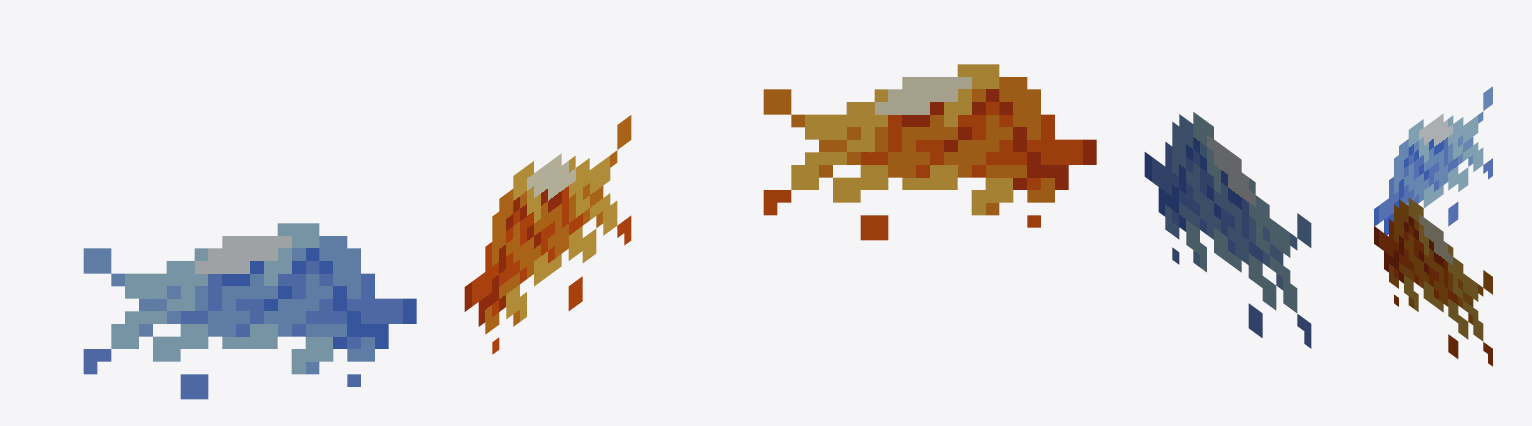
The model's file is sl_legacy_mixed_fire_wings.glb.
3 renders of one model, left to right at view 1: azimuth 30°, elevation 25°; view 2: azimuth 150°, elevation 25°; view 3: azimuth 270°, elevation 25°, orthographic. The views are drawn at different scales.
Visible parts, largest first — view 1: bb_legacy_mixed_fire_wings; view 2: bb_legacy_mixed_fire_wings; view 3: bb_legacy_mixed_fire_wings.
Part boxes in pixels (x1=…): bb_legacy_mixed_fire_wings: x1=83, y1=115, x2=631, y2=399; bb_legacy_mixed_fire_wings: x1=763, y1=64, x2=1311, y2=348; bb_legacy_mixed_fire_wings: x1=1374, y1=86, x2=1492, y2=366.
Bounding box in the file's own units: 3.39 × 1.19 × 0.9062.
1 material, 1 textured.
